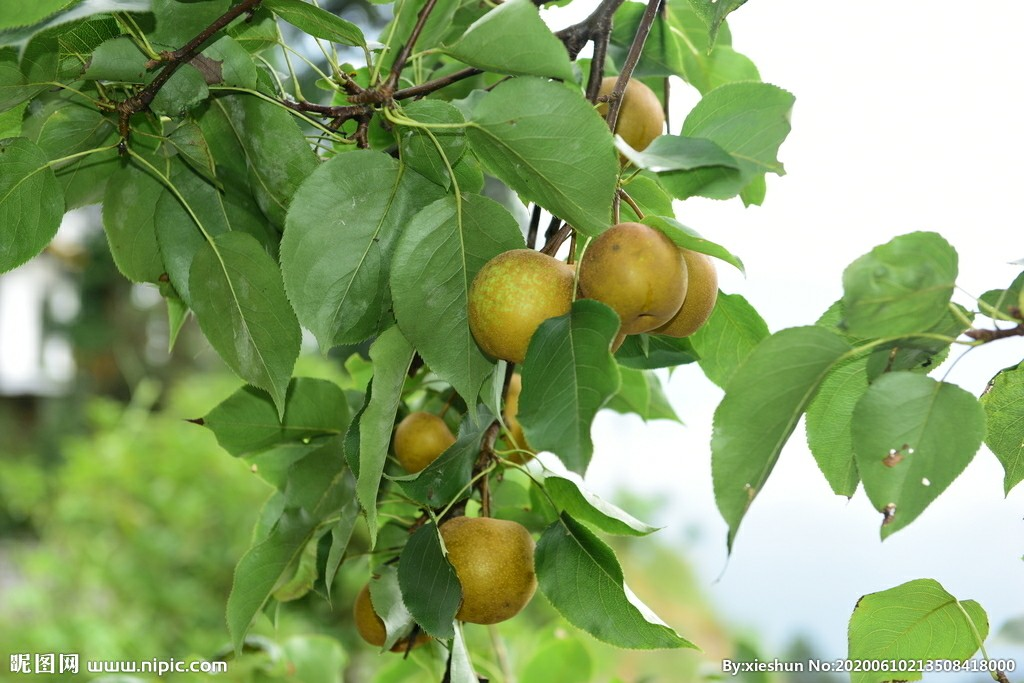pear: (467, 248, 578, 363), (432, 515, 539, 626), (581, 222, 689, 331), (580, 73, 667, 166), (632, 245, 716, 339), (394, 411, 458, 471)
